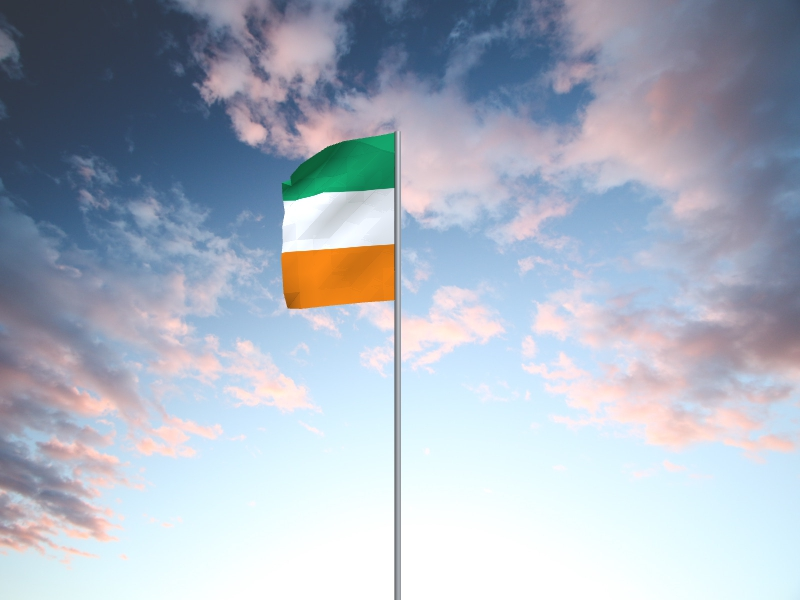ci: (281, 134, 396, 311)
